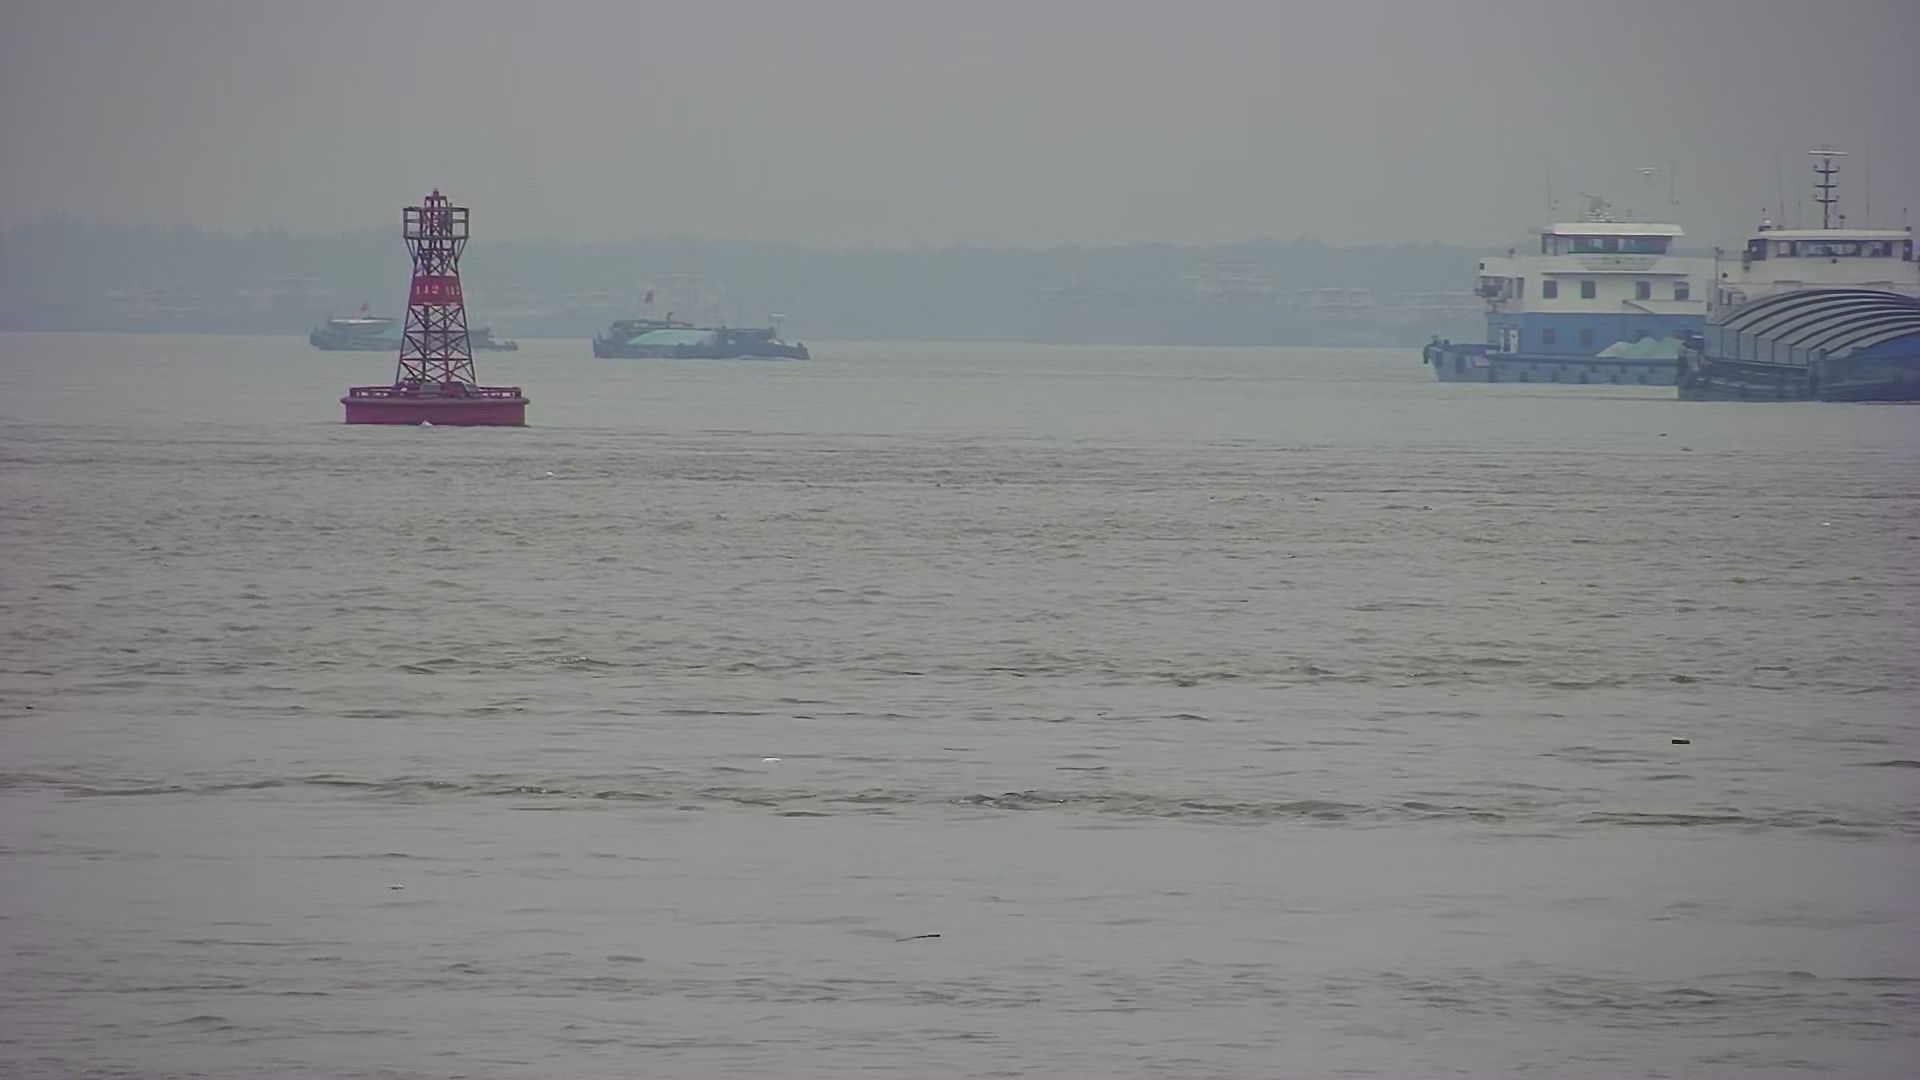platform: (342, 185, 531, 439)
ship: (1680, 165, 1915, 409), (1433, 207, 1712, 386), (589, 311, 815, 367), (302, 314, 517, 356)
